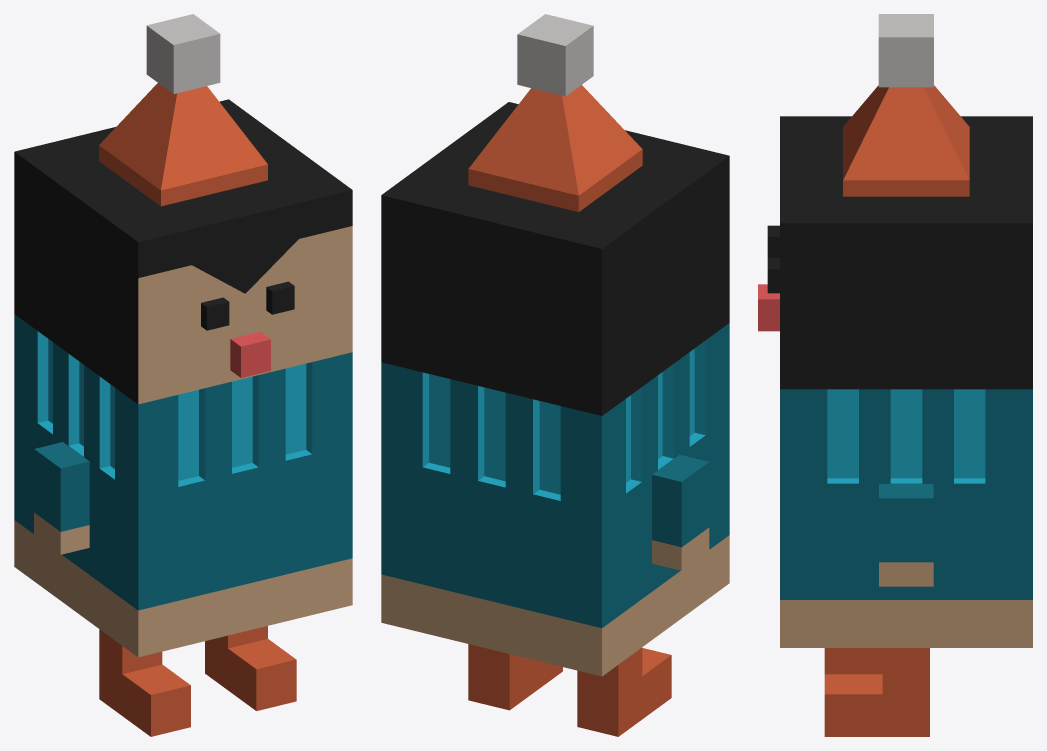
File: 066 Xmas_Girl.fbx
3 views of the same model, side by side, from view 1: azimuth 30°, elevation 25°; view 2: azimuth 150°, elevation 25°; view 3: azimuth 270°, elevation 25° (orthographic). The views are drawn at different scales.
Visible parts, largest first — view 1: Lowpoly_Christmas_Pack_066:pCube11; view 2: Lowpoly_Christmas_Pack_066:pCube11; view 3: Lowpoly_Christmas_Pack_066:pCube11.
Boxes of the visible parts, box(x1,y1,x2,y2) form: Lowpoly_Christmas_Pack_066:pCube11: box(14, 14, 352, 736); Lowpoly_Christmas_Pack_066:pCube11: box(381, 14, 729, 736); Lowpoly_Christmas_Pack_066:pCube11: box(758, 14, 1032, 736).
Size of the model in its own units: 1.27 by 2.94 by 1.09.
